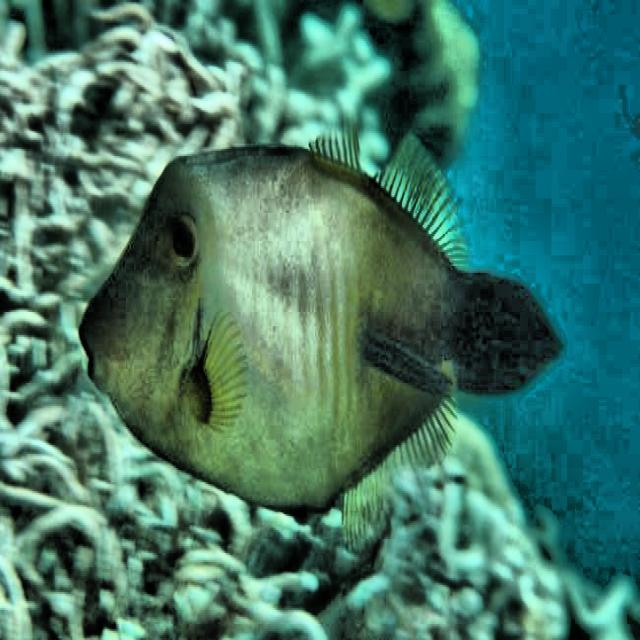fish: (70, 105, 564, 557)
